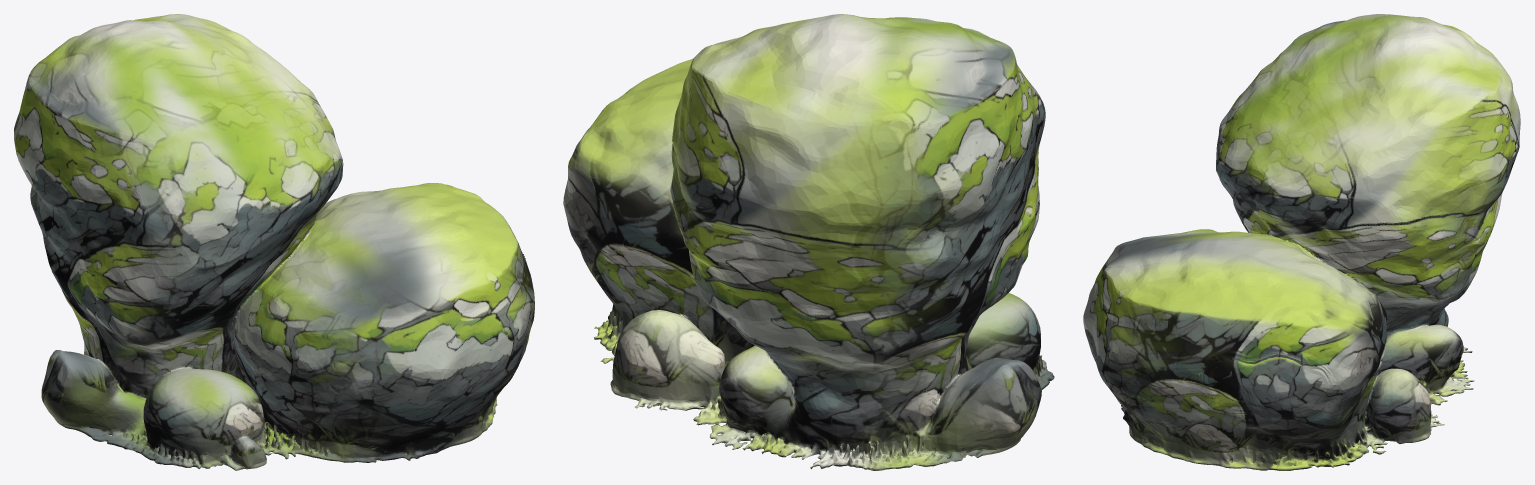
The model's file is hill_boulders.glb.
3 renders of one model, left to right at view 1: azimuth 30°, elevation 25°; view 2: azimuth 150°, elevation 25°; view 3: azimuth 270°, elevation 25°, orthographic. The views are drawn at different scales.
Parts seen in each view (by area): view 1: hill_boulders; view 2: hill_boulders; view 3: hill_boulders.
Boxes of the visible parts, x1,y1,x2,y2 form: hill_boulders: (14,14,534,470); hill_boulders: (563,14,1054,470); hill_boulders: (1083,14,1520,470).
Size of the model in its own units: 2.74 by 2.2 by 2.69.
Materials: 1 (1 with a texture image).
